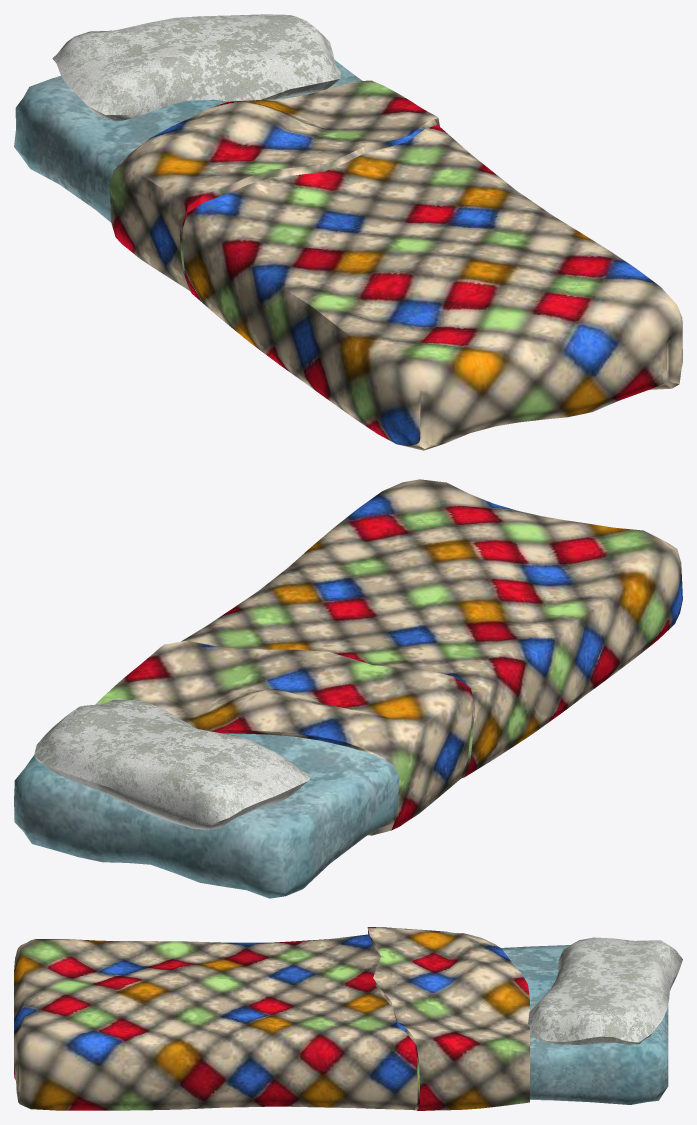
Rendered from Bed_1.glb.
3 renders of one model, top to bottom at view 1: azimuth 30°, elevation 25°; view 2: azimuth 150°, elevation 25°; view 3: azimuth 270°, elevation 25°, orthographic. The views are drawn at different scales.
Visible parts, largest first — view 1: Bed_1; view 2: Bed_1; view 3: Bed_1.
Boxes of the visible parts, <box> form: Bed_1: <box>14,14,682,450</box>; Bed_1: <box>14,479,682,898</box>; Bed_1: <box>14,927,682,1110</box>.
Size of the model in its own units: 0.8186 by 0.3208 by 1.99.
2 materials, 2 textured.
